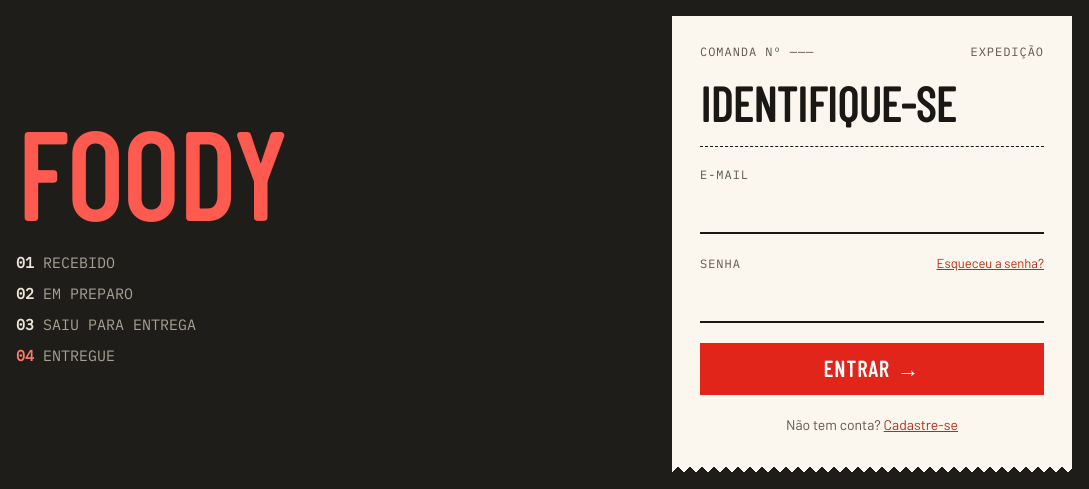
Scenario: ForgotPasswordPage › is reachable from the login page
Click the link "Esqueceu a senha?" at (990, 263), box [936, 254, 1044, 272]
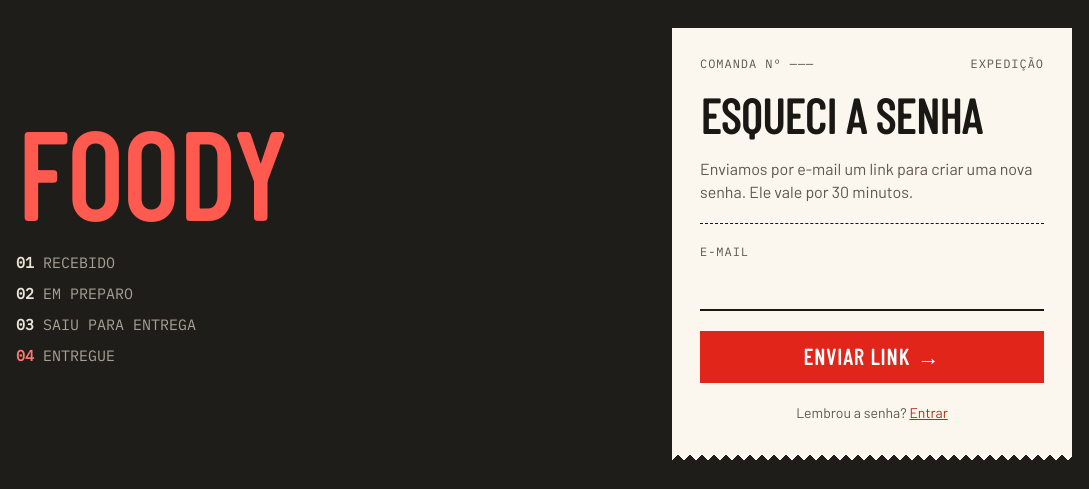
Check: the heading "Esqueci a senha" is shown, box [700, 86, 981, 144]
